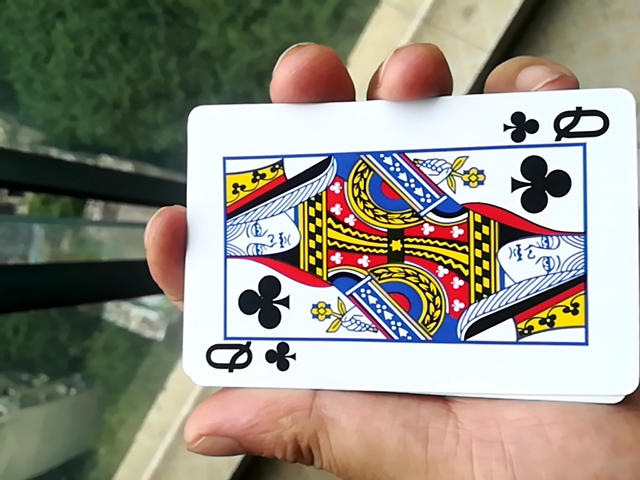mh q: (164, 90, 631, 408)
